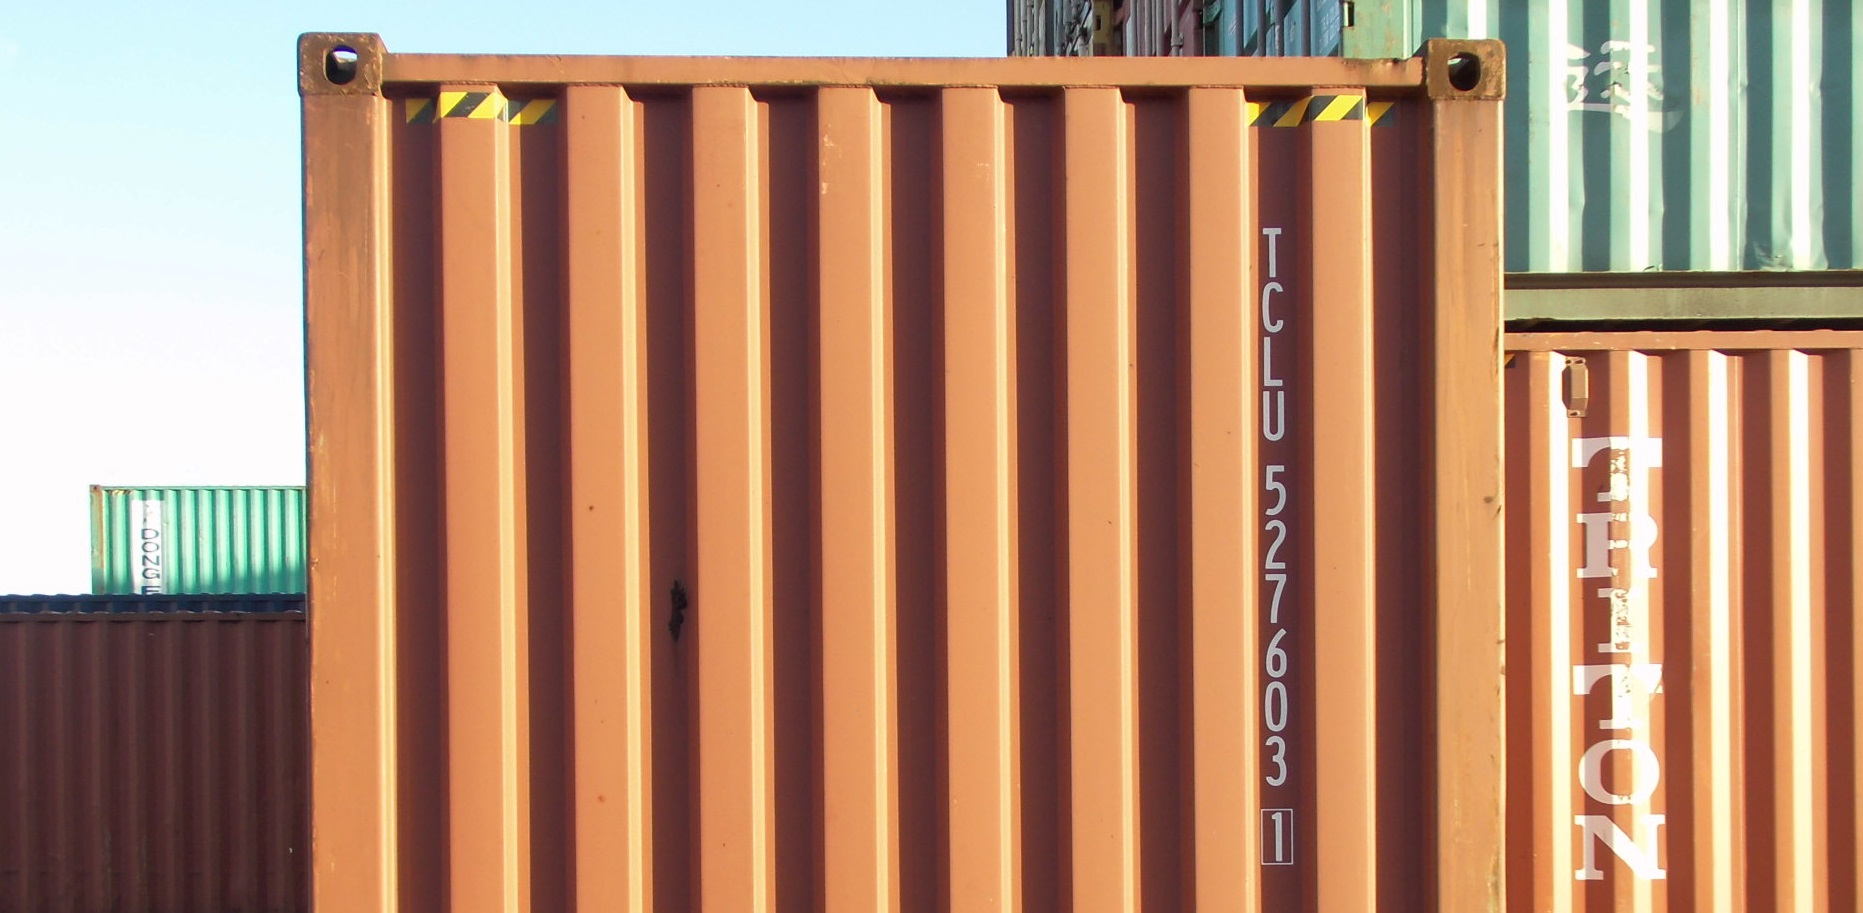container_no_door: (288, 30, 1514, 909)
